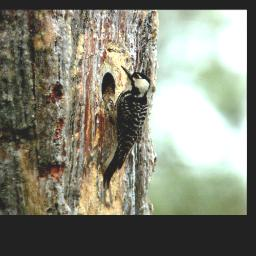Woodpecker: (90, 61, 157, 199)
